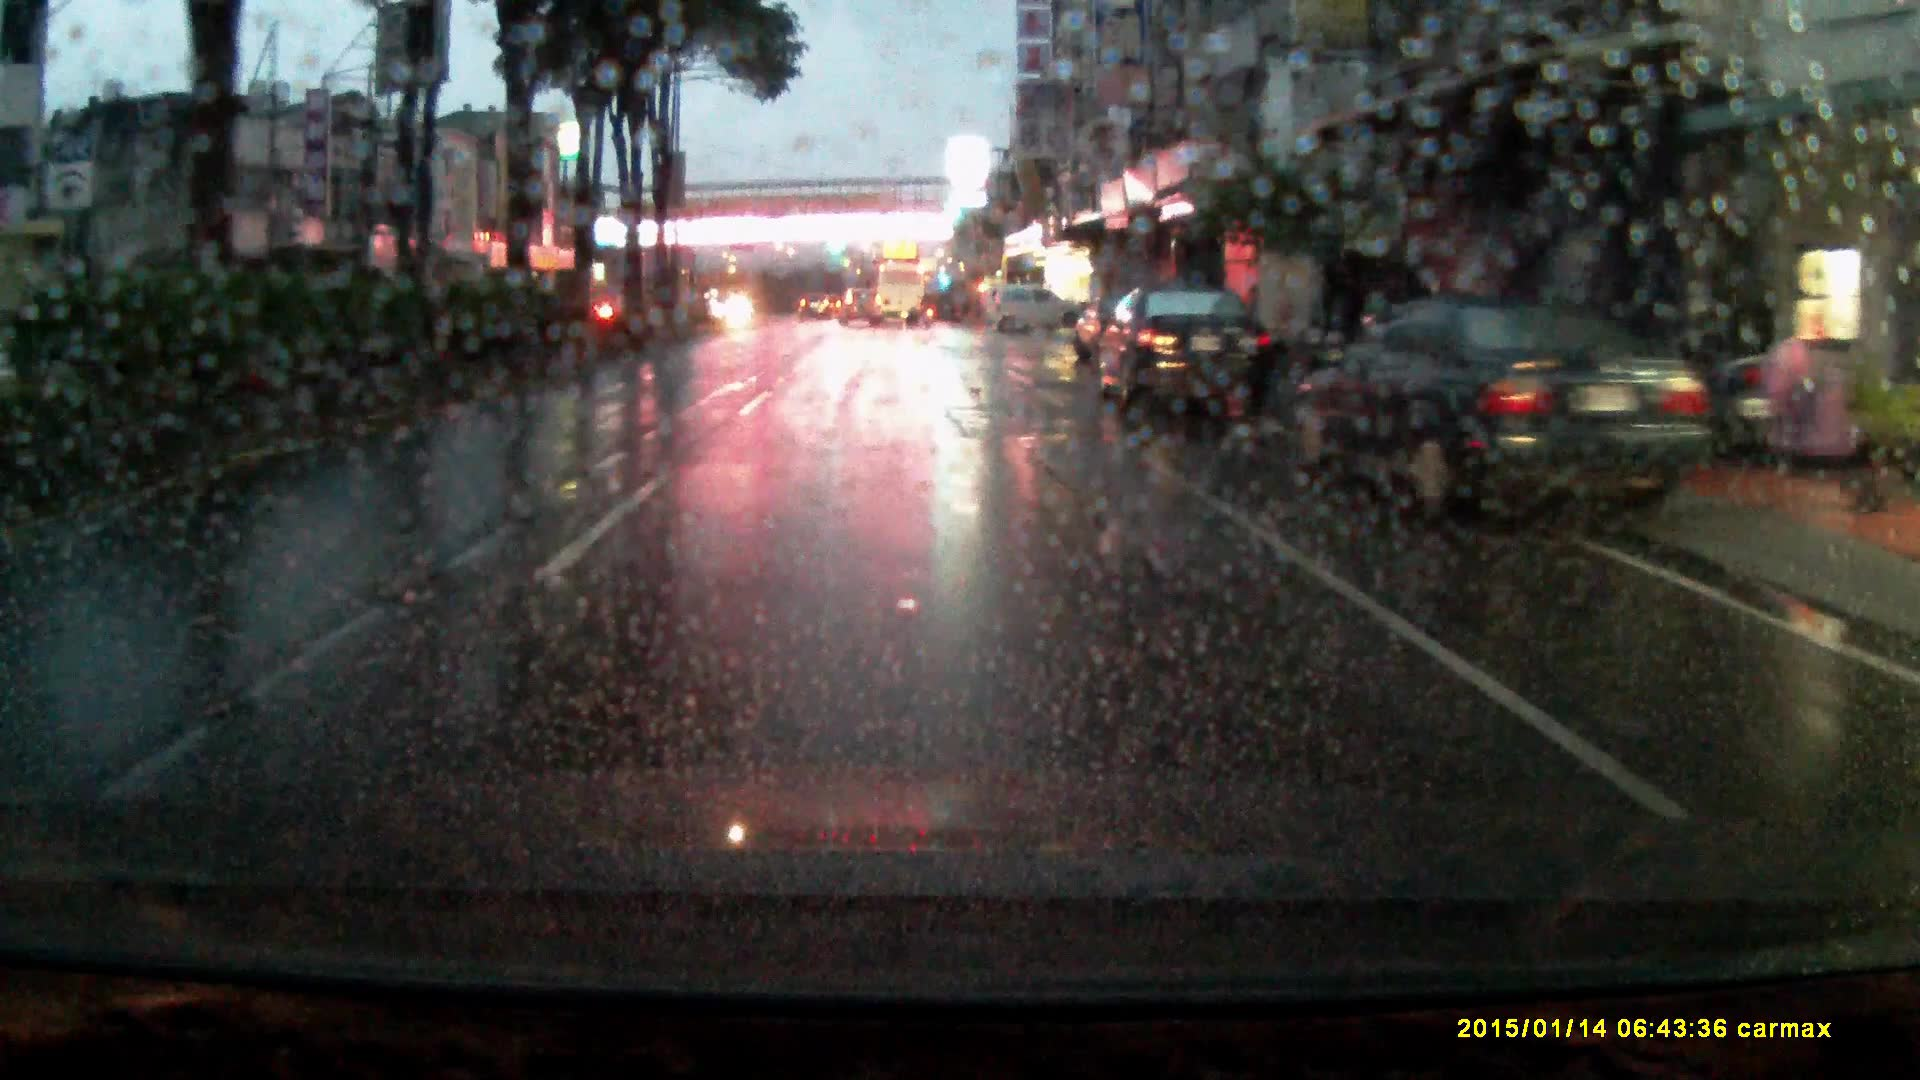vehicle: (1313, 305, 1727, 558), (1096, 287, 1275, 434), (860, 264, 928, 327), (993, 287, 1081, 335), (1073, 295, 1125, 368), (836, 295, 886, 338), (799, 298, 832, 328)
